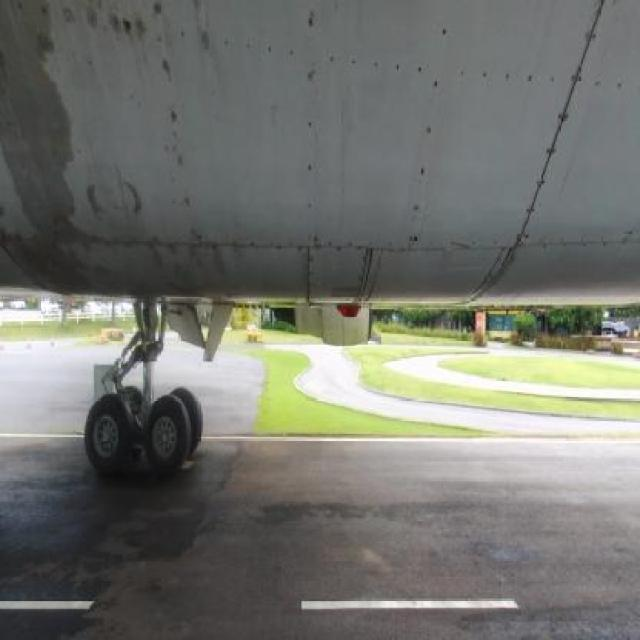Missing-Rivet: (33, 227, 372, 270), (154, 5, 198, 240), (512, 103, 577, 232), (452, 58, 630, 104), (410, 14, 444, 243), (300, 8, 320, 220), (39, 1, 150, 39), (380, 238, 628, 253), (325, 51, 424, 85), (217, 29, 298, 68), (567, 7, 613, 53)
Scartch: (0, 2, 114, 304), (119, 243, 232, 303), (80, 165, 151, 228), (63, 5, 148, 41), (197, 26, 212, 60)
